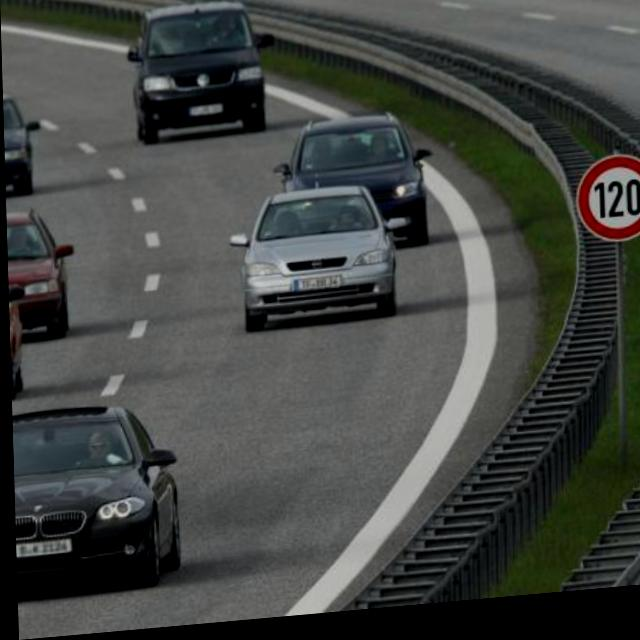limit120: (571, 161, 640, 263)
